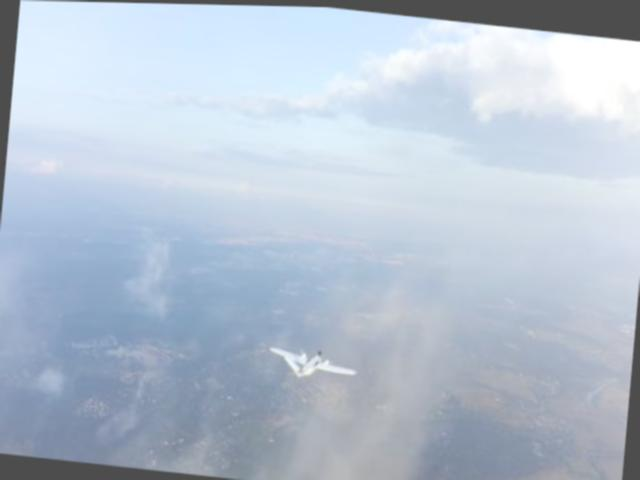uav: (265, 340, 360, 384)
